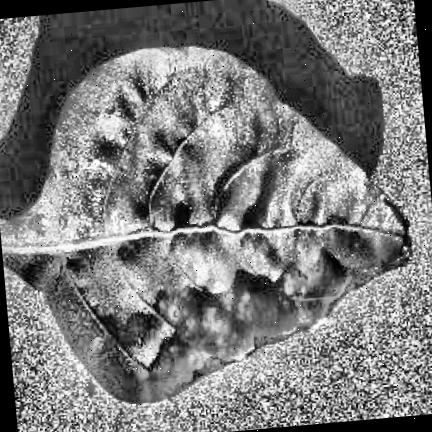leaf: (0, 45, 407, 401)
